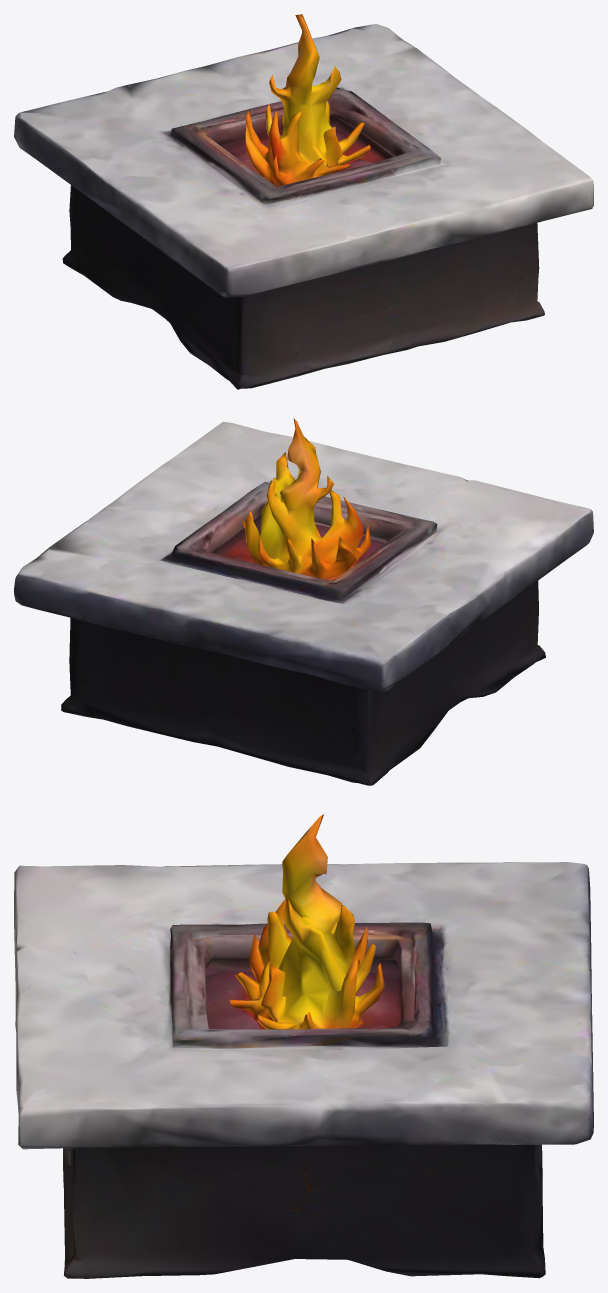
Rendered from fire-pit.glb.
3 views of the same model, one above another, from view 1: azimuth 30°, elevation 25°; view 2: azimuth 150°, elevation 25°; view 3: azimuth 270°, elevation 25° (orthographic). The views are drawn at different scales.
Visible parts, largest first — view 1: tripo_node_ae0151a0-b695-4d93-86b8-4f7773d2cf01; view 2: tripo_node_ae0151a0-b695-4d93-86b8-4f7773d2cf01; view 3: tripo_node_ae0151a0-b695-4d93-86b8-4f7773d2cf01.
Part boxes in pixels (<box>): tripo_node_ae0151a0-b695-4d93-86b8-4f7773d2cf01: <box>14,14,593,389</box>; tripo_node_ae0151a0-b695-4d93-86b8-4f7773d2cf01: <box>14,418,593,785</box>; tripo_node_ae0151a0-b695-4d93-86b8-4f7773d2cf01: <box>14,814,593,1278</box>.
Bounding box in the file's own units: 0.9985 × 0.6948 × 1.
Materials: 1 (1 with a texture image).
